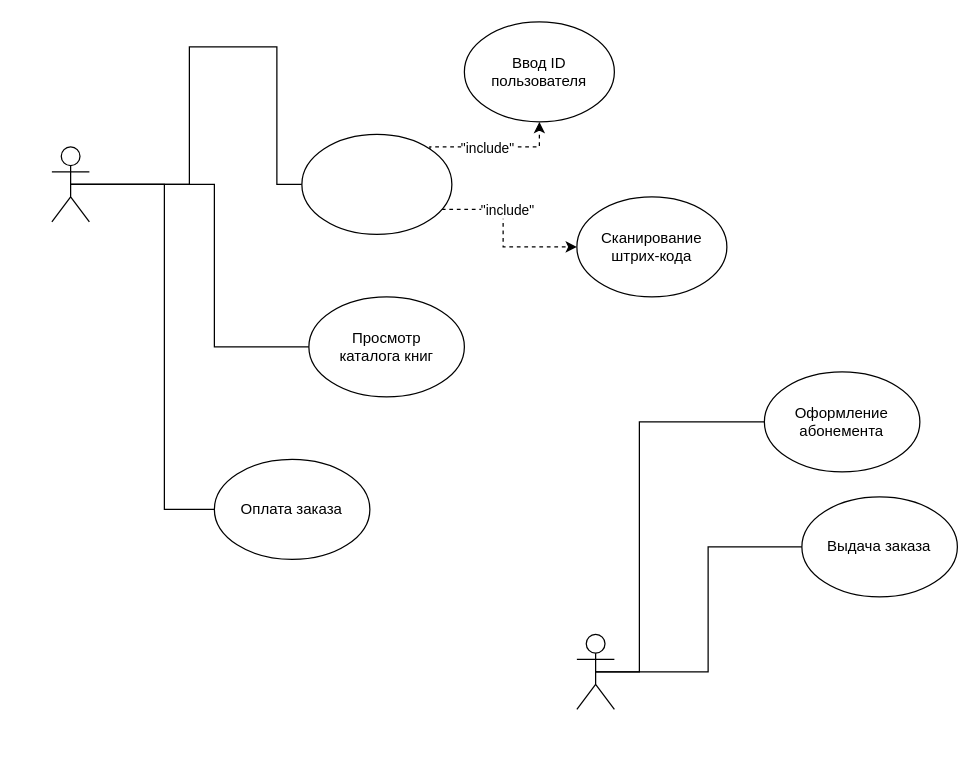
Some shapes in this 980 by 758 pixel diagram are drawn without their labels. Here are the shapes that lost their labels. From the top down, the centre of each, then its label:
At pixel 70 184: "Пользователь".
At pixel 376 183: "Авторизация".
At pixel 595 671: "Библиотекарь".
